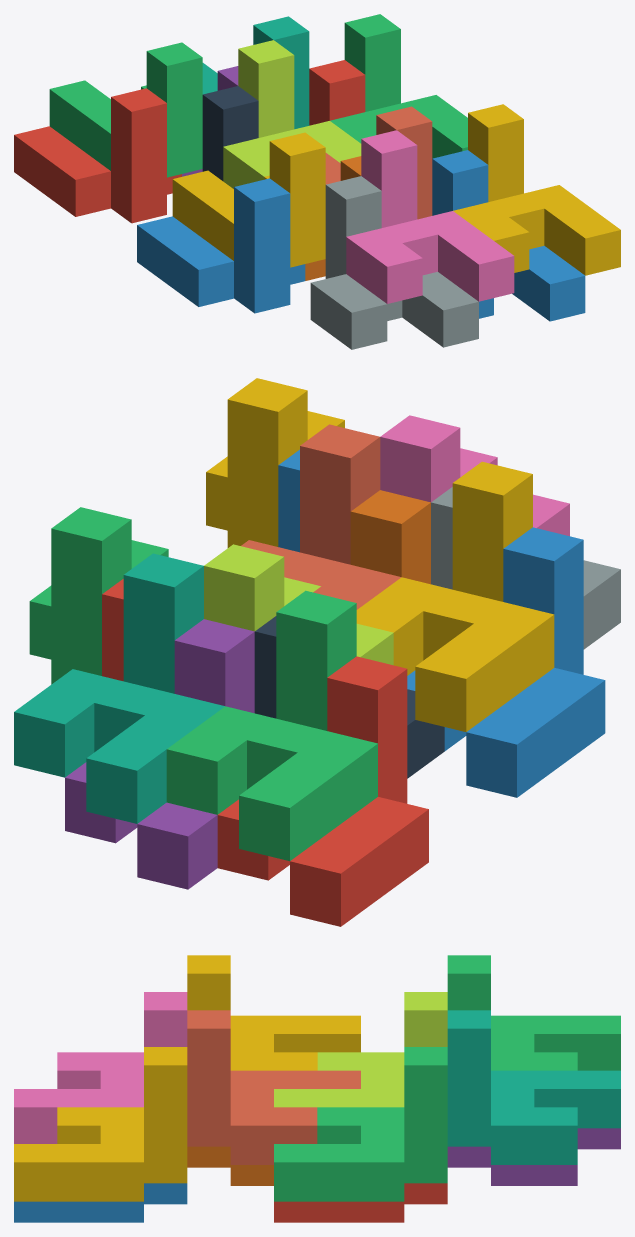
Rendered from tiling.obj.
The picture shows the model from 3 angles, top to bottom: view 1: azimuth 30°, elevation 25°; view 2: azimuth 150°, elevation 25°; view 3: azimuth 270°, elevation 25°; orthographic projection. The views are drawn at different scales.
Visible parts, largest first — view 1: copy_2_domain_4, copy_1_domain_2, copy_1_domain_1, copy_2_domain_8, copy_2_domain_2, copy_1_domain_3, copy_1_domain_4, copy_2_domain_3, copy_2_domain_7, copy_2_domain_6, copy_2_domain_1, copy_1_domain_8 (+4 smaller); view 2: copy_1_domain_3, copy_1_domain_4, copy_1_domain_7, copy_1_domain_1, copy_1_domain_2, copy_1_domain_5, copy_1_domain_8, copy_2_domain_7, copy_2_domain_8, copy_2_domain_4, copy_2_domain_3, copy_1_domain_6 (+4 smaller); view 3: copy_1_domain_7, copy_2_domain_7, copy_2_domain_8, copy_1_domain_8, copy_1_domain_3, copy_2_domain_4, copy_1_domain_4, copy_2_domain_3, copy_2_domain_5, copy_2_domain_6, copy_1_domain_5, copy_1_domain_6.
Boxes of the visible parts, x1,y1,x2,y2 form: copy_2_domain_4: (346, 130, 514, 303); copy_1_domain_2: (137, 178, 305, 313); copy_1_domain_1: (14, 88, 181, 223); copy_2_domain_8: (453, 104, 620, 275); copy_2_domain_2: (310, 176, 478, 349); copy_1_domain_3: (49, 42, 202, 177); copy_1_domain_4: (172, 132, 325, 267); copy_2_domain_3: (223, 40, 361, 188); copy_2_domain_7: (330, 14, 467, 158); copy_2_domain_6: (432, 150, 585, 321); copy_2_domain_1: (202, 86, 258, 180); copy_1_domain_8: (325, 106, 432, 219); copy_1_domain_3: (166, 590, 377, 861); copy_1_domain_4: (356, 461, 554, 731); copy_1_domain_7: (14, 553, 224, 823); copy_1_domain_1: (217, 656, 428, 926); copy_1_domain_2: (407, 527, 605, 797); copy_1_domain_5: (65, 619, 254, 889); copy_1_domain_8: (241, 424, 401, 609); copy_2_domain_7: (29, 507, 168, 684); copy_2_domain_8: (206, 378, 344, 547); copy_2_domain_4: (380, 415, 569, 536); copy_2_domain_3: (204, 544, 393, 665); copy_1_domain_6: (350, 490, 430, 584); copy_1_domain_7: (447, 1010, 620, 1164); copy_2_domain_7: (274, 1047, 447, 1201); copy_2_domain_8: (14, 1047, 187, 1201); copy_1_domain_8: (187, 1010, 360, 1164); copy_1_domain_3: (447, 955, 620, 1070); copy_2_domain_4: (14, 992, 187, 1143); copy_1_domain_4: (187, 955, 360, 1070); copy_2_domain_3: (274, 992, 447, 1107); copy_2_domain_5: (274, 1183, 447, 1222); copy_2_domain_6: (14, 1183, 187, 1222); copy_1_domain_5: (447, 1128, 620, 1185); copy_1_domain_6: (187, 1146, 273, 1185).
Bounding box in the file's own units: 9 × 4 × 14.
